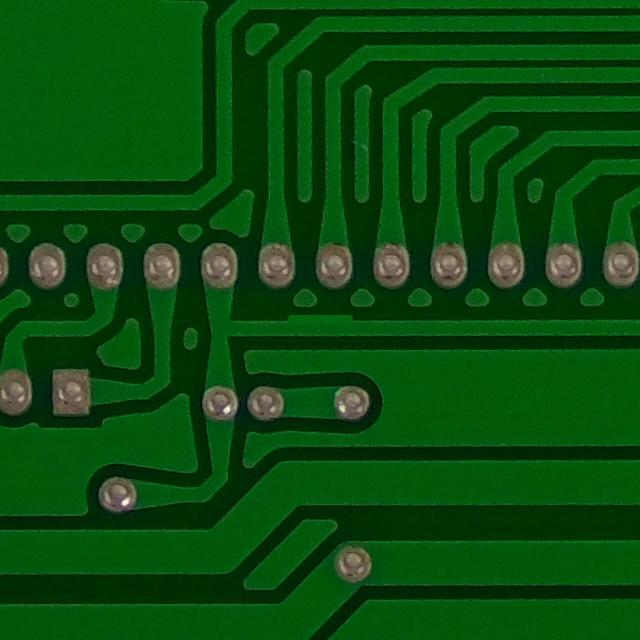spur: (280, 308, 361, 332)
